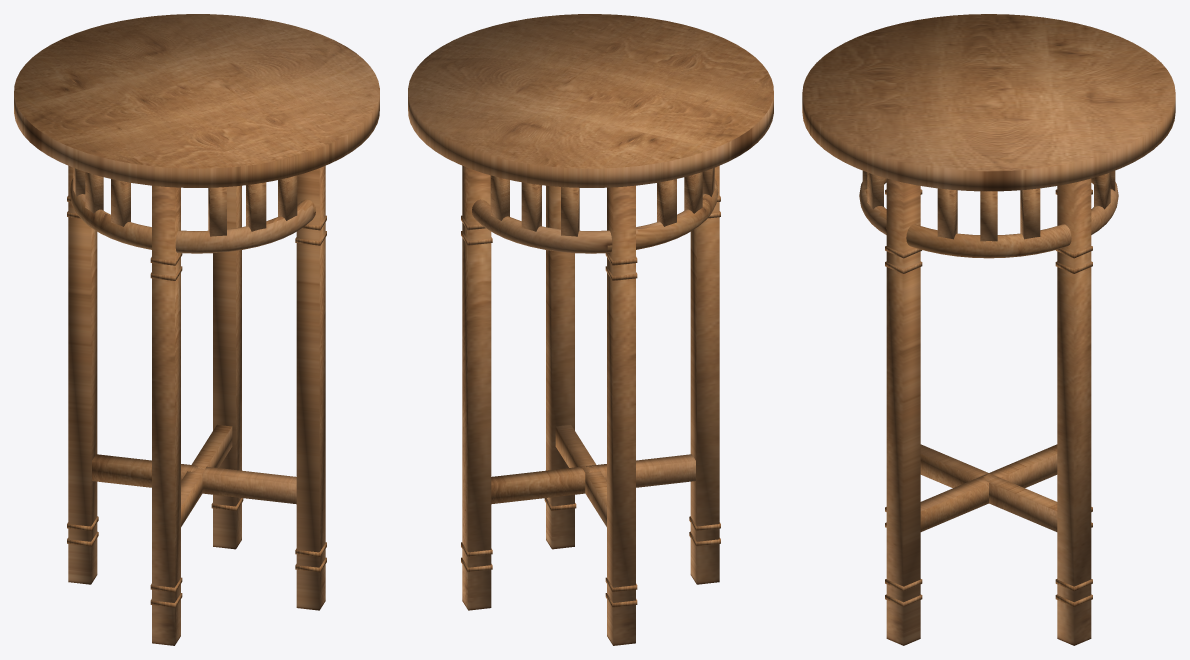
File: mejatinggi.glb
3 renders of one model, left to right at view 1: azimuth 30°, elevation 25°; view 2: azimuth 150°, elevation 25°; view 3: azimuth 270°, elevation 25°, orthographic.
Visible parts, largest first — view 1: Table_Top_Round.001, Table_Leg_3.001, Table_Leg_4.001, Table_Leg_2.001, Table_Leg_1.001, Lower_Rim.001, Cross_Stretcher_B.001, Cross_Stretcher_A.001, Apron_Slat_270.001, Apron_Slat_250.001, Apron_Slat_200.001, Apron_Slat_290.001 (+1 smaller); view 2: Table_Top_Round.001, Table_Leg_2.001, Table_Leg_1.001, Table_Leg_3.001, Table_Leg_4.001, Lower_Rim.001, Cross_Stretcher_A.001, Cross_Stretcher_B.001, Apron_Slat_90.001, Apron_Slat_110.001, Apron_Slat_160.001, Apron_Slat_70.001 (+1 smaller); view 3: Table_Top_Round.001, Table_Leg_4.001, Table_Leg_1.001, Lower_Rim.001, Cross_Stretcher_A.001, Cross_Stretcher_B.001, Apron_Slat_20.001, Apron_Slat_-20.001, Apron_Slat_0.001, Apron_Slat_70.001, Apron_Slat_290.001.
Part boxes in pixels (x1=…): Table_Top_Round.001: x1=14, y1=14, x2=379, y2=187; Table_Leg_3.001: x1=152, y1=185, x2=180, y2=645; Table_Leg_4.001: x1=296, y1=165, x2=325, y2=610; Table_Leg_2.001: x1=68, y1=166, x2=97, y2=584; Table_Leg_1.001: x1=213, y1=185, x2=241, y2=549; Lower_Rim.001: x1=69, y1=178, x2=315, y2=253; Cross_Stretcher_B.001: x1=92, y1=454, x2=296, y2=504; Cross_Stretcher_A.001: x1=181, y1=424, x2=232, y2=526; Apron_Slat_270.001: x1=246, y1=182, x2=266, y2=231; Apron_Slat_250.001: x1=208, y1=187, x2=226, y2=236; Apron_Slat_200.001: x1=111, y1=179, x2=130, y2=226; Apron_Slat_290.001: x1=278, y1=175, x2=297, y2=220; Table_Top_Round.001: x1=408, y1=14, x2=773, y2=187; Table_Leg_2.001: x1=607, y1=185, x2=635, y2=645; Table_Leg_1.001: x1=462, y1=165, x2=491, y2=610; Table_Leg_3.001: x1=690, y1=166, x2=719, y2=584; Table_Leg_4.001: x1=546, y1=185, x2=574, y2=549; Lower_Rim.001: x1=472, y1=178, x2=718, y2=253; Cross_Stretcher_A.001: x1=491, y1=454, x2=695, y2=504; Cross_Stretcher_B.001: x1=555, y1=424, x2=606, y2=526; Apron_Slat_90.001: x1=521, y1=182, x2=541, y2=231; Apron_Slat_110.001: x1=561, y1=187, x2=579, y2=236; Apron_Slat_160.001: x1=657, y1=179, x2=676, y2=226; Apron_Slat_70.001: x1=490, y1=175, x2=509, y2=220; Table_Top_Round.001: x1=802, y1=14, x2=1175, y2=191; Table_Leg_4.001: x1=886, y1=178, x2=920, y2=645; Table_Leg_1.001: x1=1057, y1=178, x2=1091, y2=645; Lower_Rim.001: x1=859, y1=178, x2=1118, y2=258; Cross_Stretcher_A.001: x1=920, y1=444, x2=1057, y2=531; Cross_Stretcher_B.001: x1=920, y1=444, x2=1057, y2=531; Apron_Slat_20.001: x1=1020, y1=188, x2=1040, y2=239; Apron_Slat_-20.001: x1=937, y1=188, x2=957, y2=239; Apron_Slat_0.001: x1=980, y1=191, x2=997, y2=241; Apron_Slat_70.001: x1=1094, y1=172, x2=1110, y2=209; Apron_Slat_290.001: x1=867, y1=172, x2=883, y2=209.
Size of the model in its own units: 0.65 by 0.98 by 0.65.
Materials: 1 (1 with a texture image).
